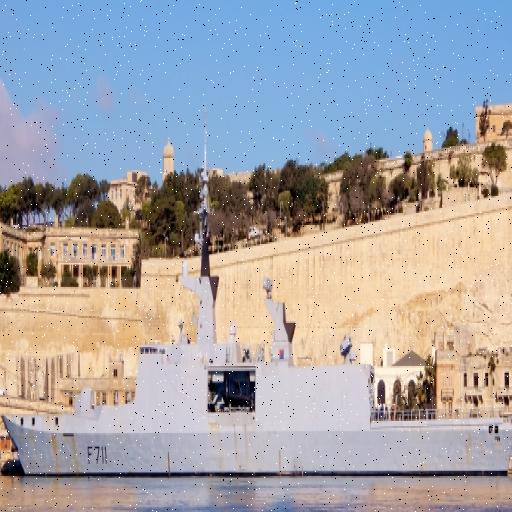Fragata: (1, 132, 512, 487)
